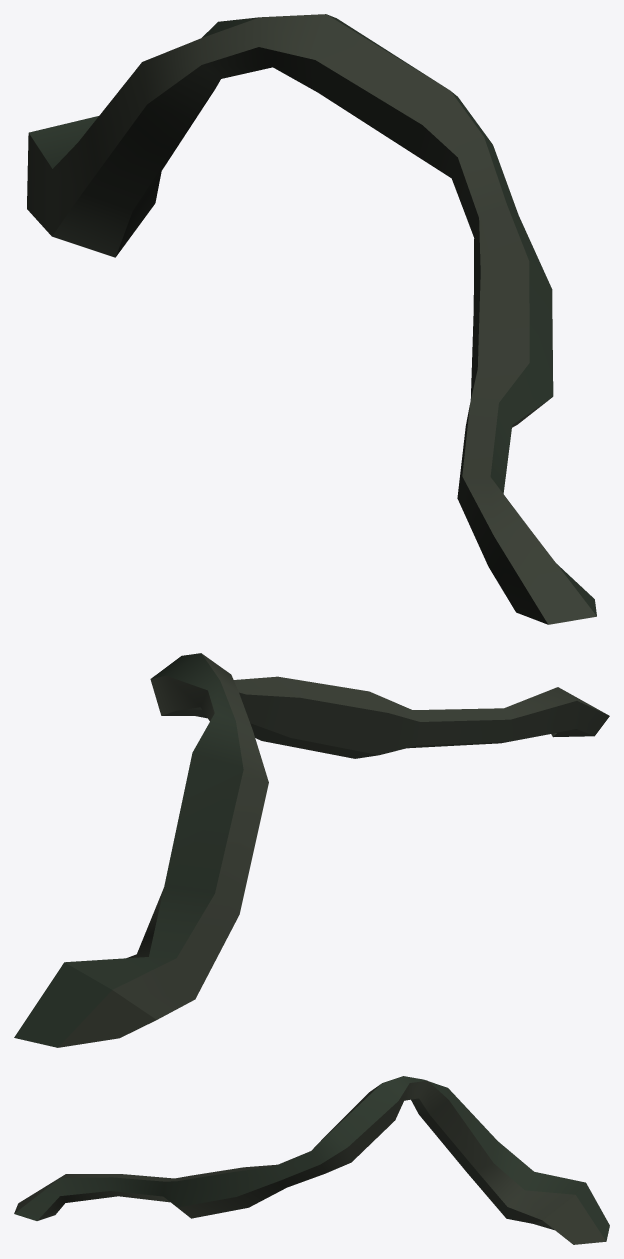
The model's file is SF_Env_GiantRoot_01.glb.
3 views of the same model, one above another, from view 1: azimuth 30°, elevation 25°; view 2: azimuth 150°, elevation 25°; view 3: azimuth 270°, elevation 25° (orthographic). The views are drawn at different scales.
Visible parts, largest first — view 1: SF_Env_GiantRoot_01; view 2: SF_Env_GiantRoot_01; view 3: SF_Env_GiantRoot_01.
Boxes of the visible parts, x1,y1,x2,y2 form: SF_Env_GiantRoot_01: [27, 14, 596, 624]; SF_Env_GiantRoot_01: [14, 653, 609, 1047]; SF_Env_GiantRoot_01: [14, 1076, 609, 1244].
Bounding box in the file's own units: 0.0943 × 0.1115 × 0.3799.
Materials: 1 (1 with a texture image).
